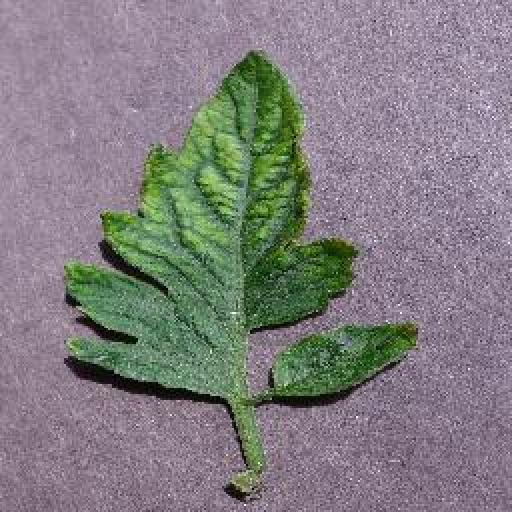Mosaic Virus: (60, 47, 363, 405)
